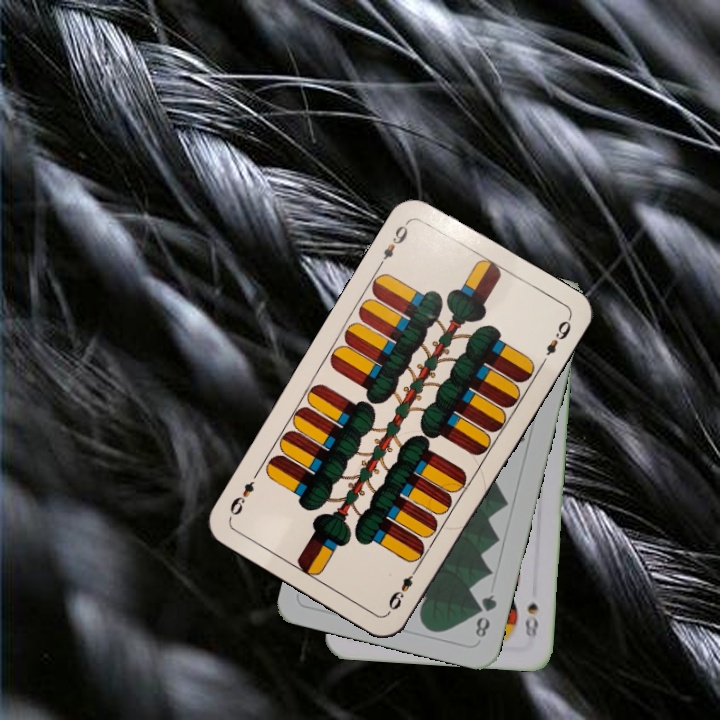E9: (384, 562, 422, 615), (374, 217, 412, 270)
G8: (471, 590, 500, 641)
S8: (520, 598, 541, 640)
